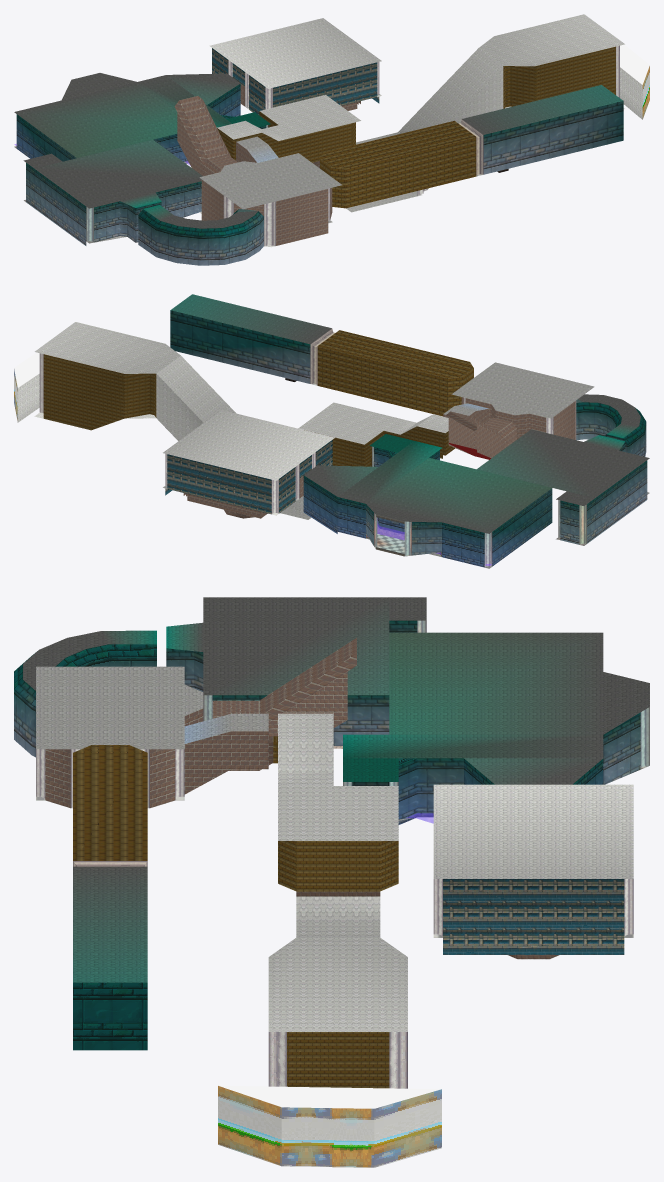
The model's file is castle_b1_all.glb.
The picture shows the model from 3 angles, top to bottom: view 1: azimuth 30°, elevation 25°; view 2: azimuth 150°, elevation 25°; view 3: azimuth 270°, elevation 25°; orthographic projection. The views are drawn at different scales.
Visible parts, largest first — view 1: castle_b1_all; view 2: castle_b1_all; view 3: castle_b1_all.
Boxes of the visible parts, x1=… form: castle_b1_all: x1=14, y1=14, x2=649, y2=265; castle_b1_all: x1=14, y1=294, x2=649, y2=568; castle_b1_all: x1=14, y1=597, x2=649, y2=1167.
Bounding box in the file's own units: 12.34 × 2.75 × 6.84.
40 materials, 37 textured.
